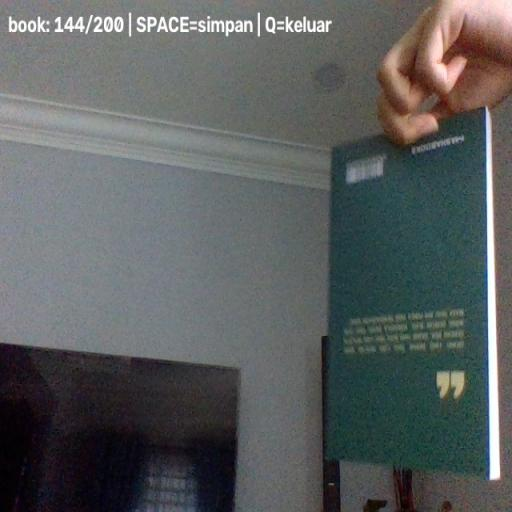Book: (325, 106, 500, 481)
